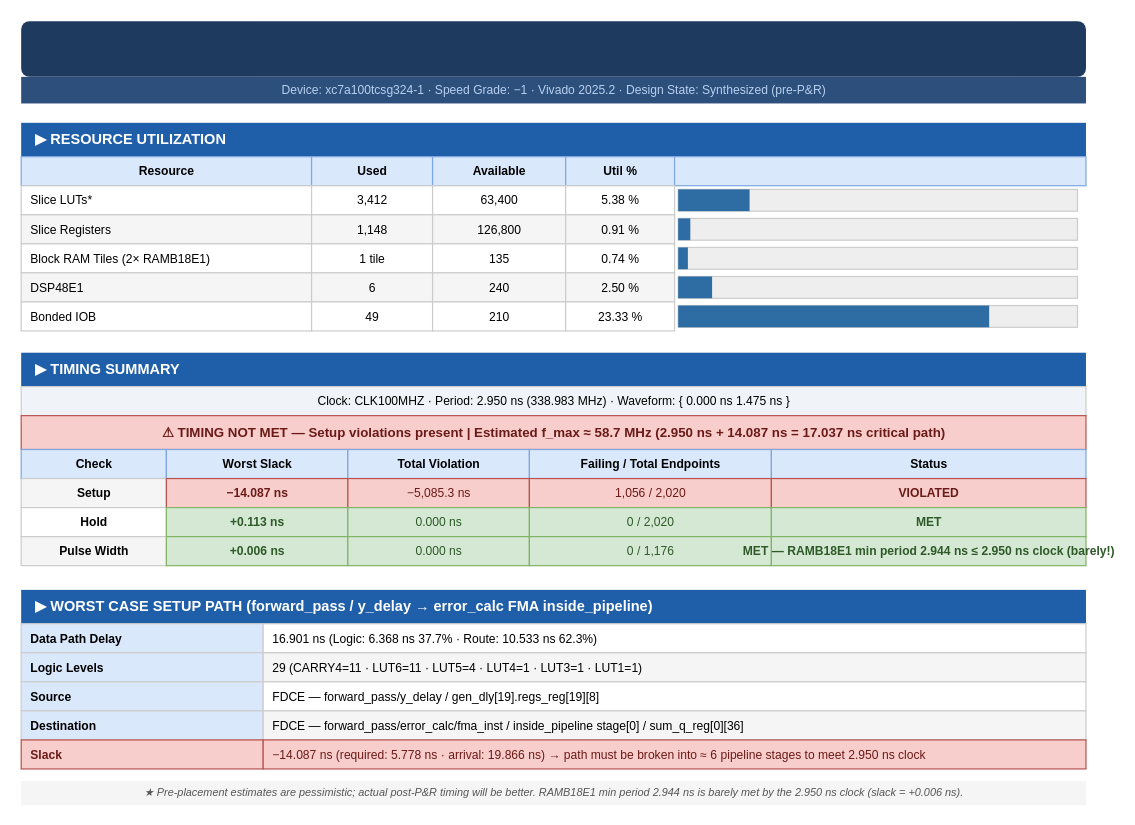
Image size: 1135x825. Some labels were removed from this diagram. Each missing label, with the centre of its shape:
FP16 — Polynomial Regression Synthesis Summary: the point at 553,48
Usage Bar (full bar = 30 %): the point at 879,170
